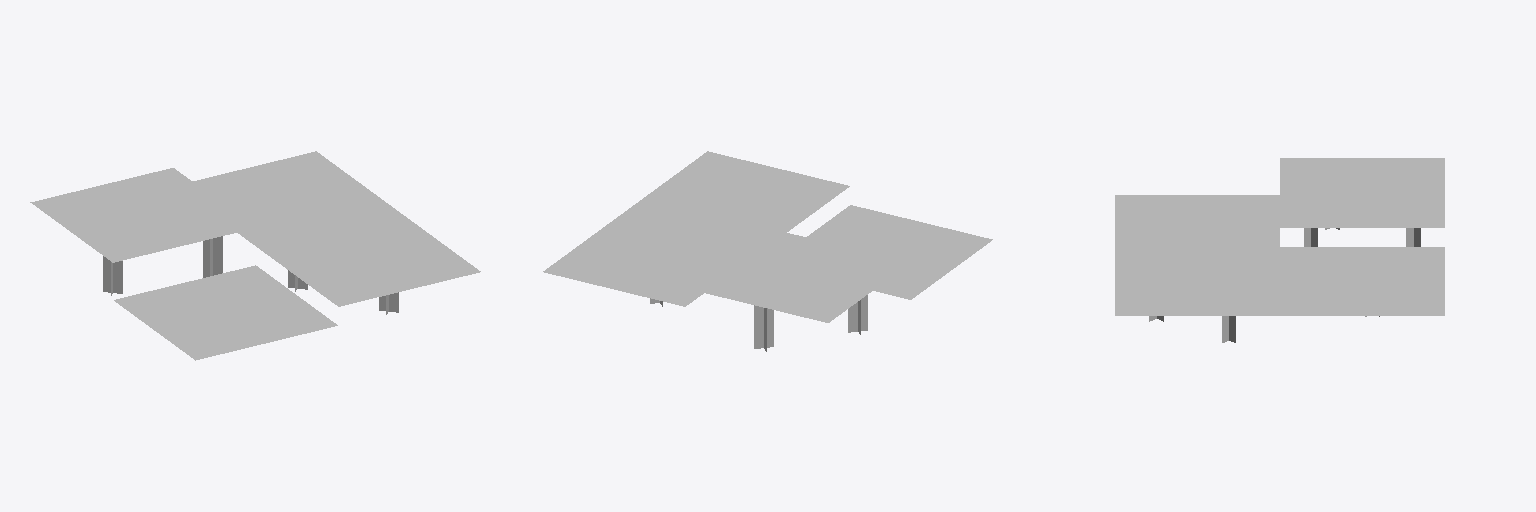
Rendered from wildflower_4.obj.
3 views of the same model, side by side, from view 1: azimuth 30°, elevation 25°; view 2: azimuth 150°, elevation 25°; view 3: azimuth 270°, elevation 25° (orthographic).
Parts seen in each view (by area): view 1: cube; view 2: cube; view 3: cube.
Boxes of the visible parts, <box> form: cube: <box>30,151,480,360</box>; cube: <box>543,151,992,351</box>; cube: <box>1115,158,1444,342</box>.
Size of the model in its own units: 1 by 0.1869 by 1.